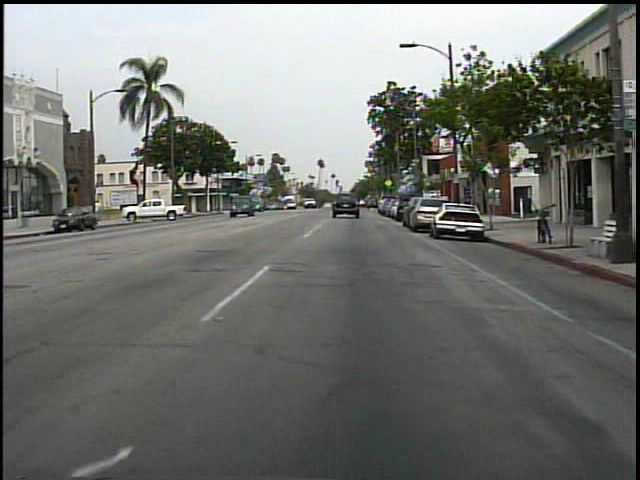person: (89, 197, 106, 225)
